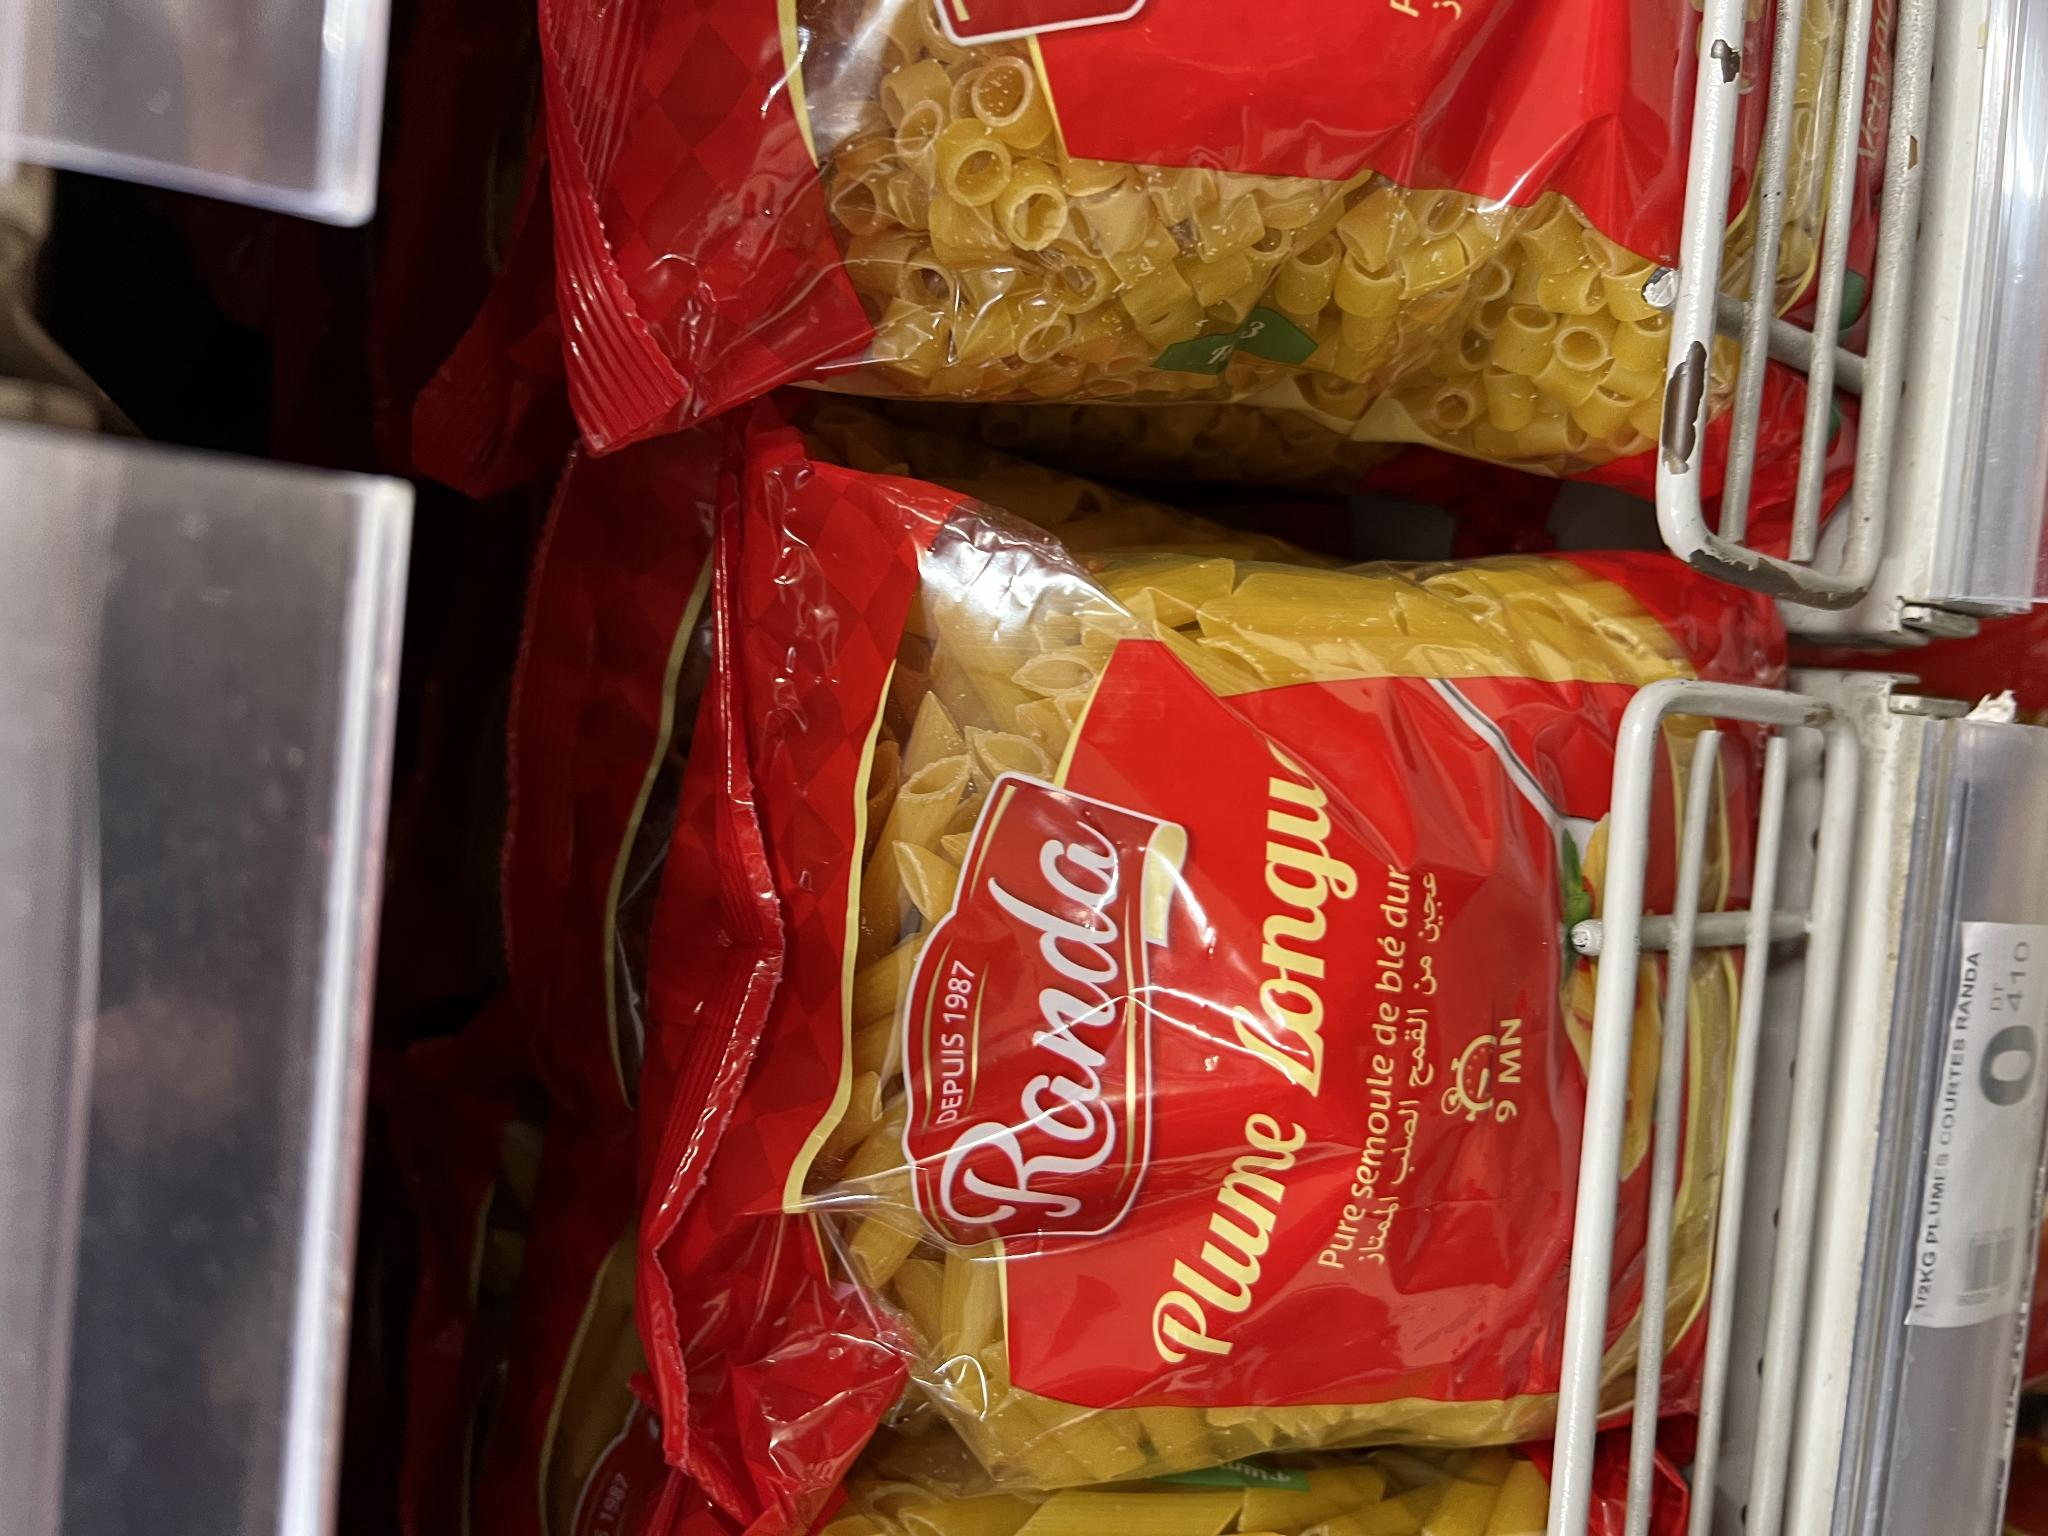Fell: (584, 0, 1819, 450)
plume: (645, 453, 1735, 1517)
